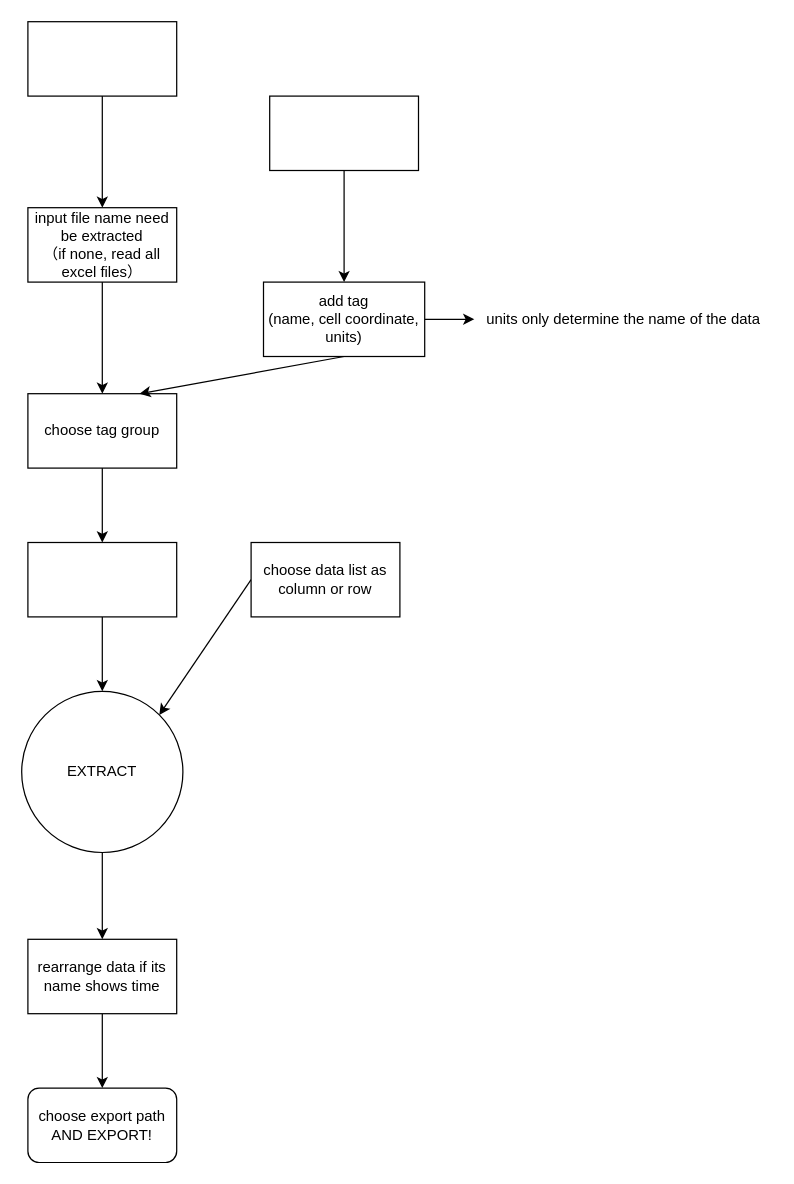
Some shapes in this 794 by 1184 pixel diagram are drawn without their labels. The box of each missing label's shape, as (x1, y1, x2, y2) in pixels:
choose tags in need: (27, 541, 177, 617)
create tag group: (268, 95, 418, 170)
Get folder path （by drag or browse）: (27, 20, 177, 96)
